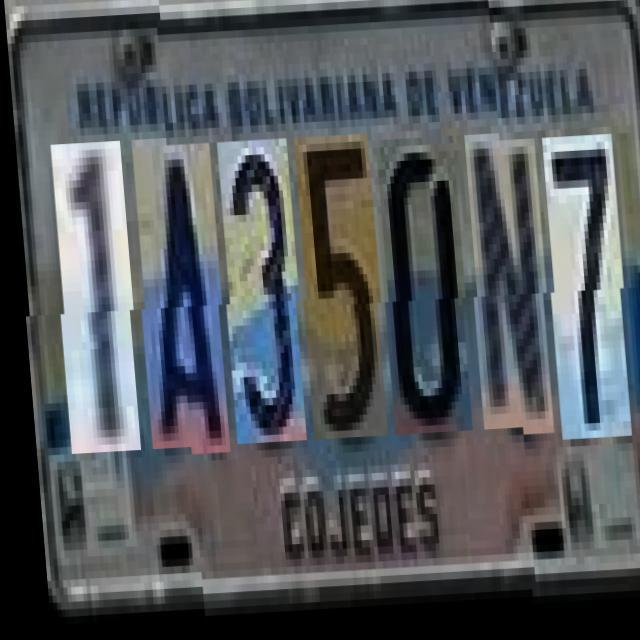0: (373, 142, 469, 440)
1: (49, 150, 138, 462)
3: (214, 142, 303, 447)
5: (291, 138, 384, 443)
7: (538, 134, 628, 439)
A: (130, 145, 226, 458)
N: (462, 137, 550, 436)
